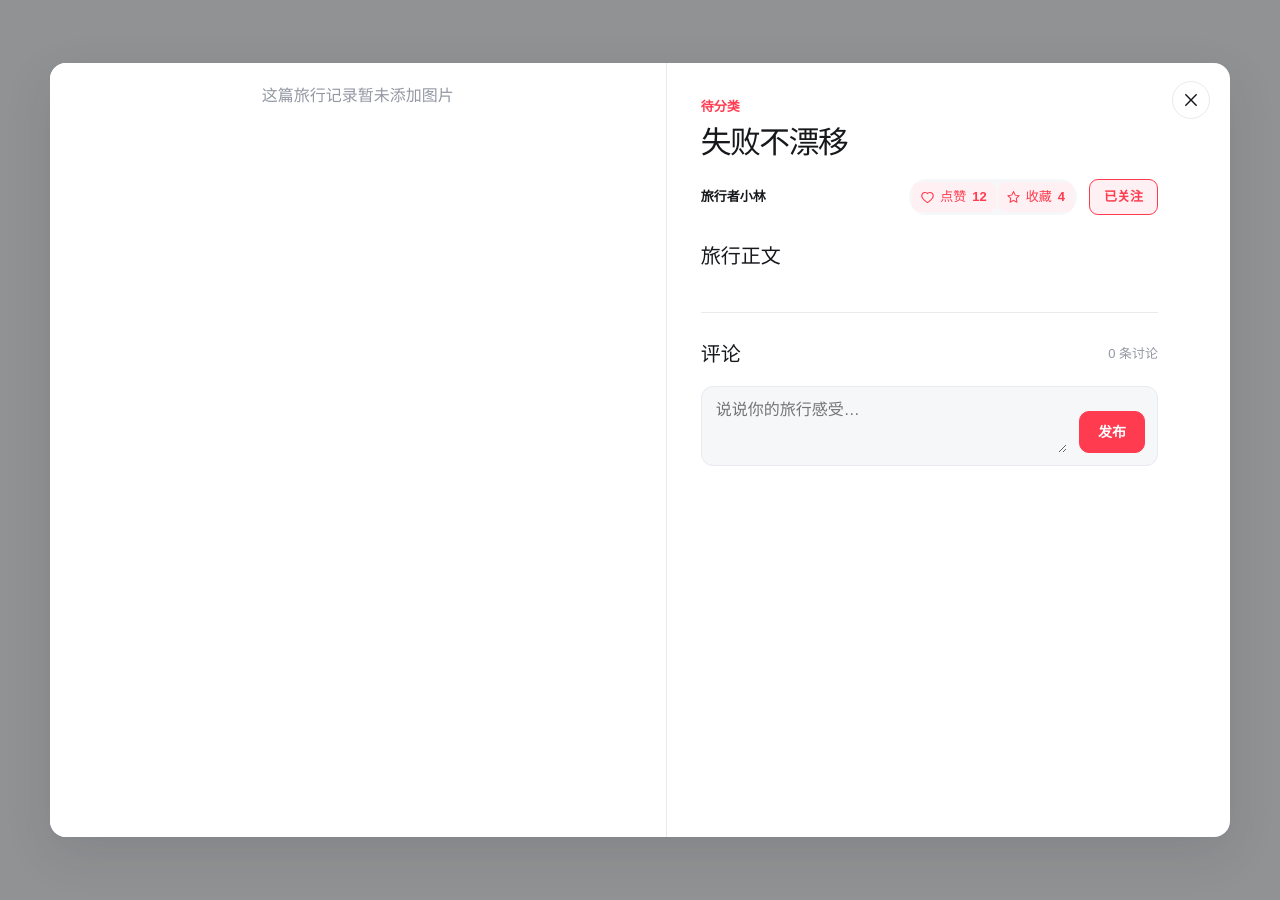
Test: 帖子详情 › 点赞 写入失败时保留服务端读取状态且展示局部错误
Click the button with aria-label "点赞" at [954, 197], box [912,182,996,212]
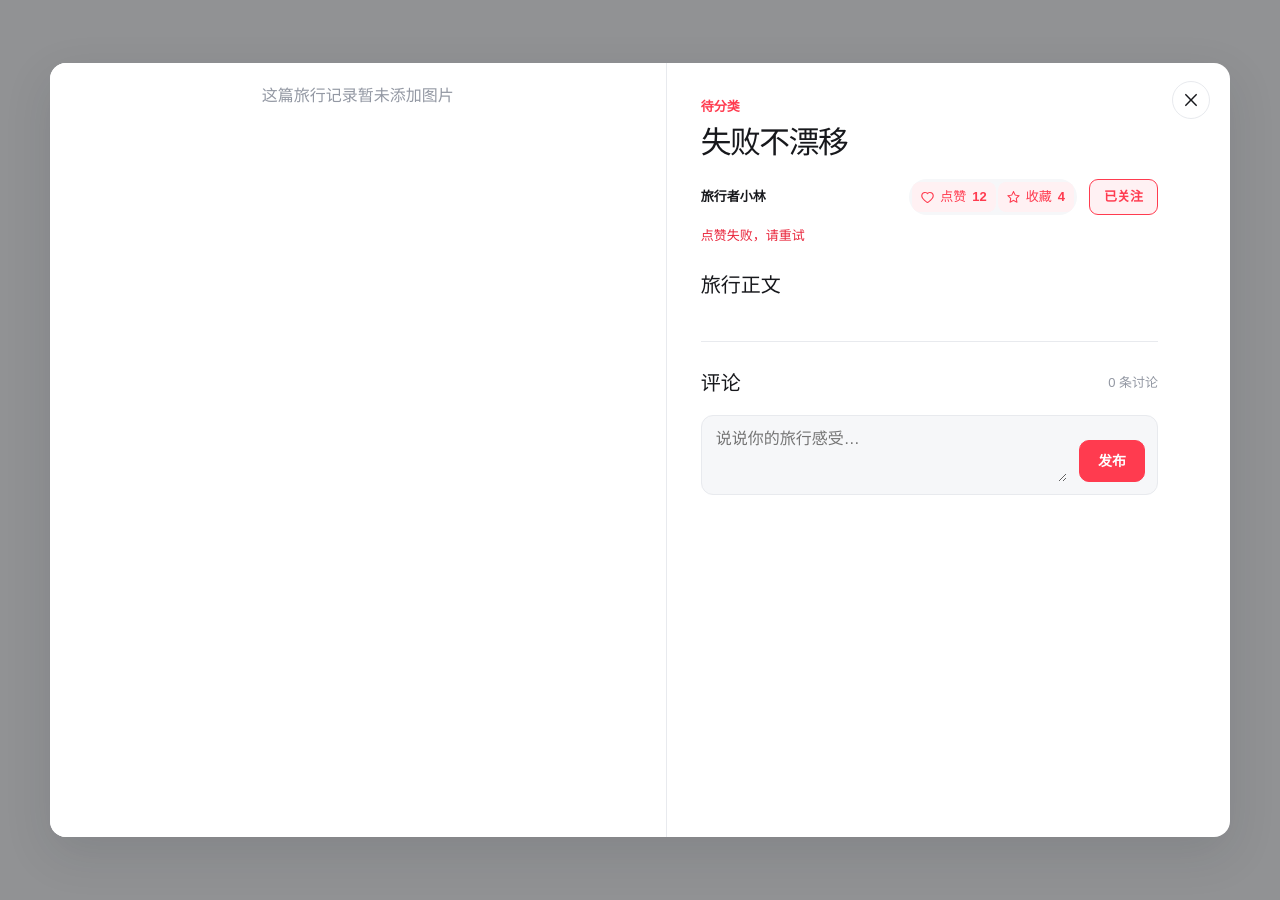
Expected: the message "点赞失败，请重试" is shown, [701,228,805,243]
